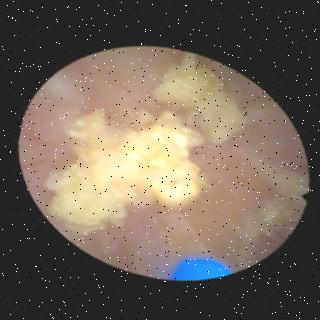fiber: (170, 255, 228, 275)
stone: (45, 106, 205, 232), (153, 53, 244, 142)
tissue: (69, 74, 304, 269), (23, 49, 168, 192)
